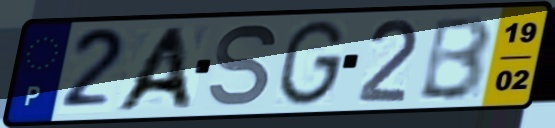2: (54, 25, 132, 117), (355, 16, 420, 104)
A: (109, 24, 196, 113)
B: (414, 13, 496, 103)
G: (273, 17, 349, 109)
S: (206, 21, 280, 110)
